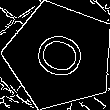O_E: (27, 27, 92, 85)
